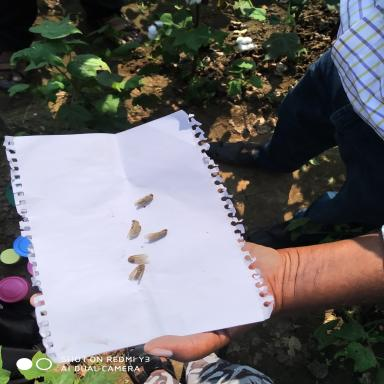abw: (143, 228, 169, 243), (128, 263, 148, 281), (125, 218, 142, 239), (133, 192, 154, 208), (127, 253, 151, 265)
